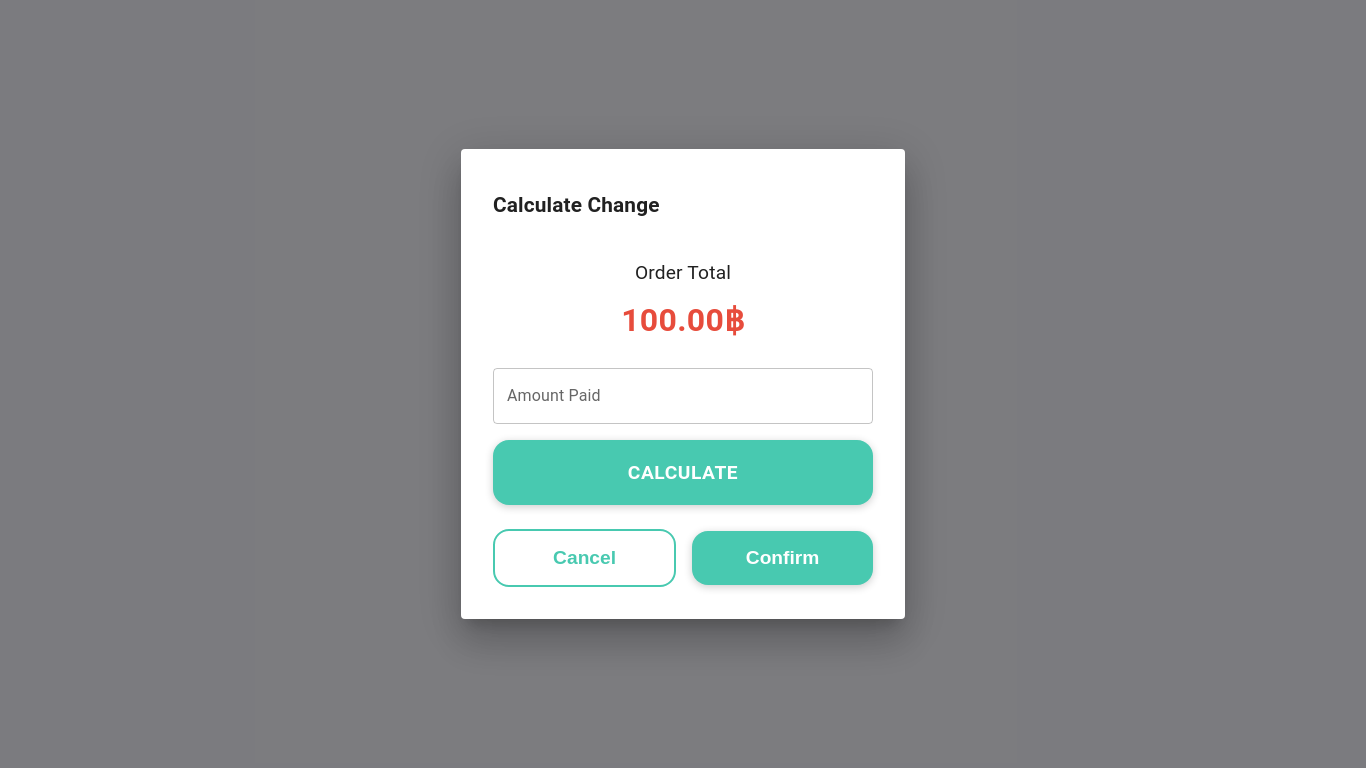
Test case: CalculateChange Acceptance Criteria Tests › Criteria 1: Correct change calculation › calculates exact change for whole numbers
Type "150" into the number field labelled "Amount Paid" at (683, 396), box [493,368,873,424]
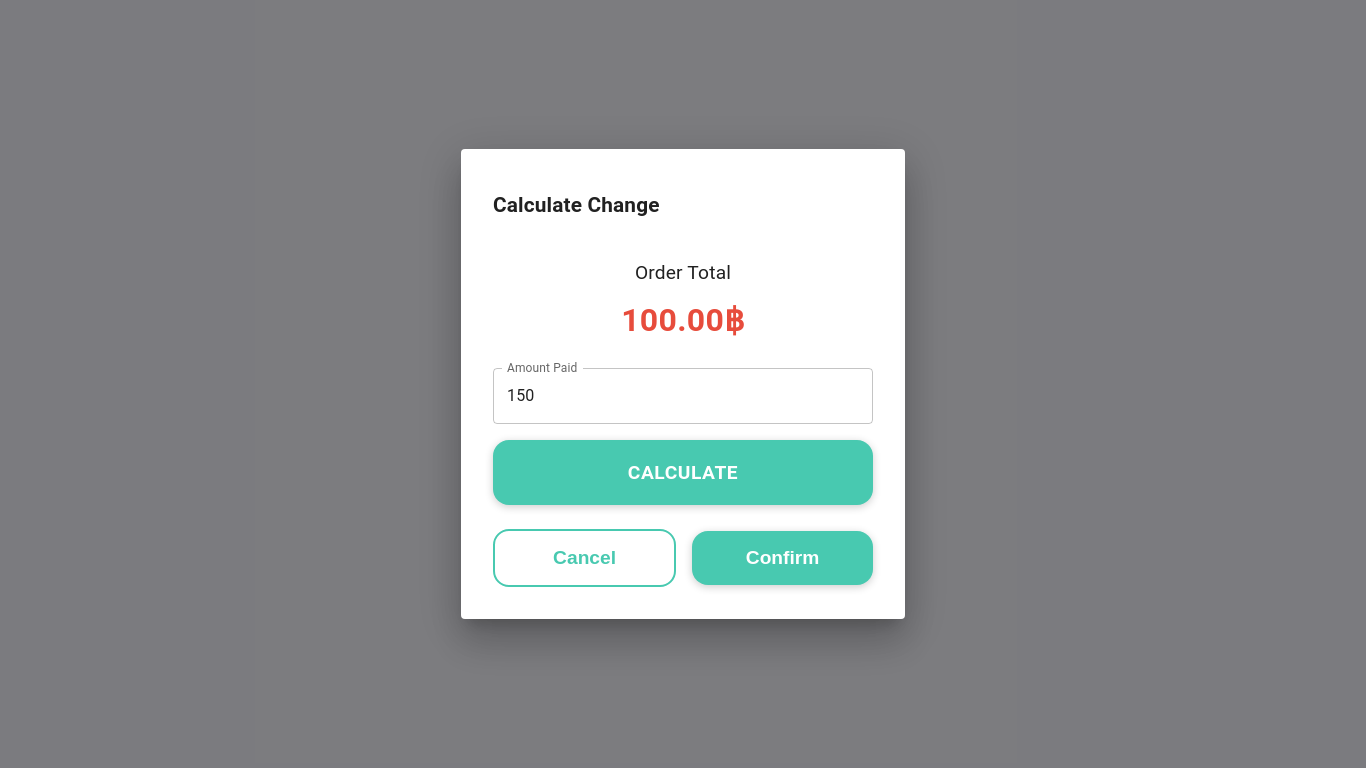
Click the button "Calculate" at (683, 472), box [493,440,873,505]
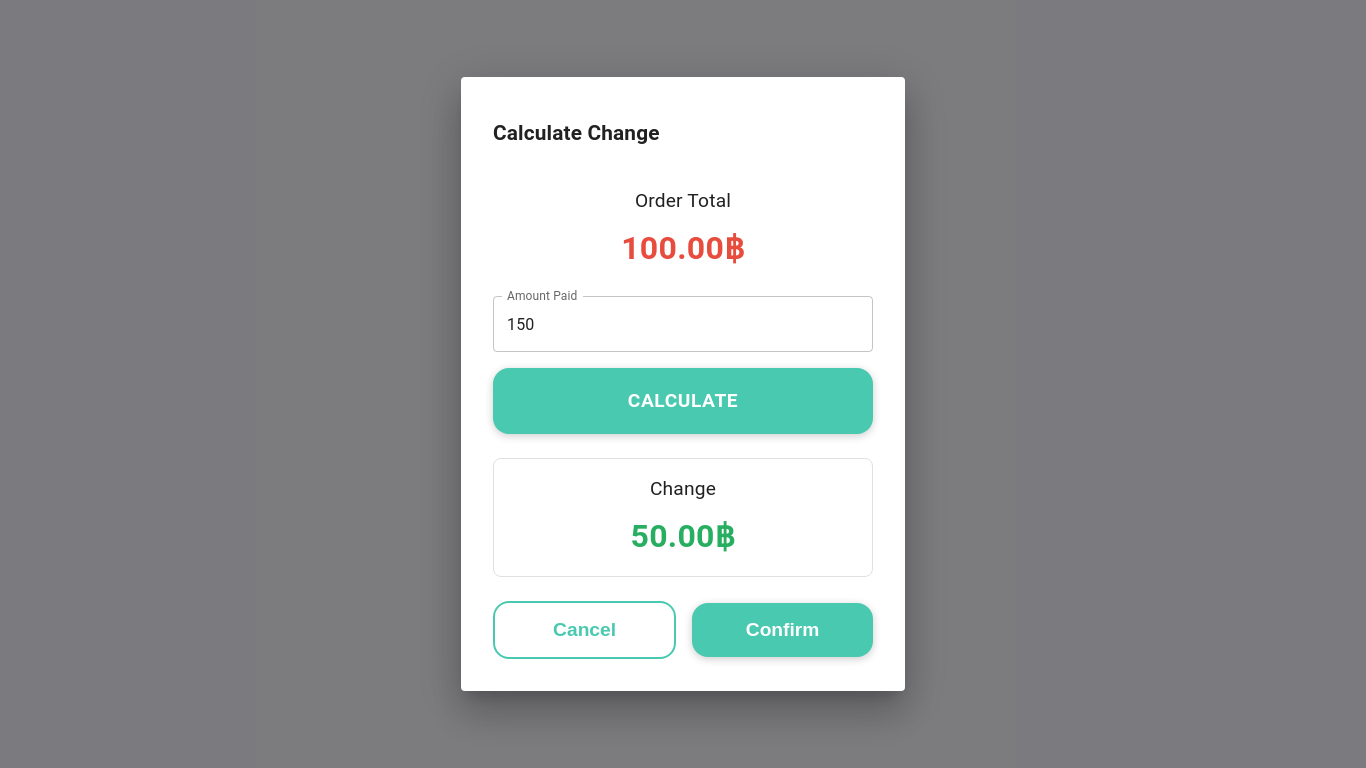
Expected: the text "50.00฿" is shown, [630,517,735,555]
